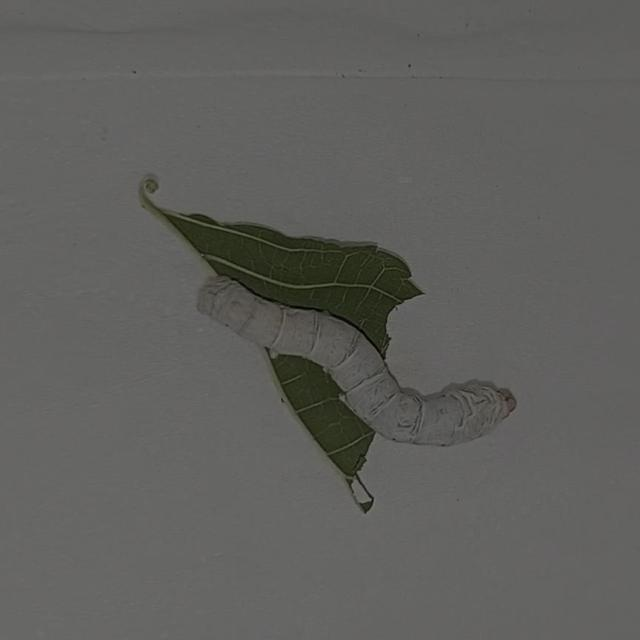Healthy: (189, 260, 522, 452)
